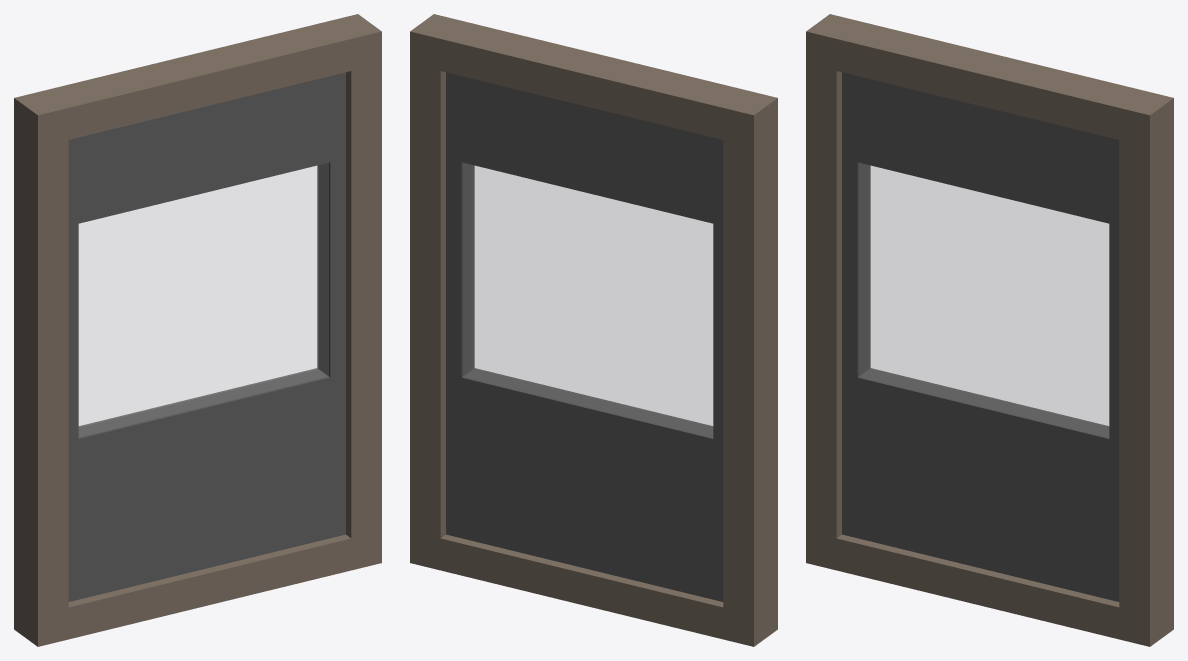
File: murret.fbx
3 renders of one model, left to right at view 1: azimuth 30°, elevation 25°; view 2: azimuth 150°, elevation 25°; view 3: azimuth 330°, elevation 25°, orthographic.
Visible parts, largest first — view 1: murret, vitre; view 2: murret, vitre; view 3: murret, vitre.
Part boxes in pixels (x1,y1,x2,y2): murret: (14,14,381,646); vitre: (79,163,328,436); murret: (410,14,777,646); vitre: (464,163,712,436); murret: (806,14,1173,646); vitre: (859,163,1108,436).
Size of the model in its own units: 7.37 by 10.88 by 0.8862.
